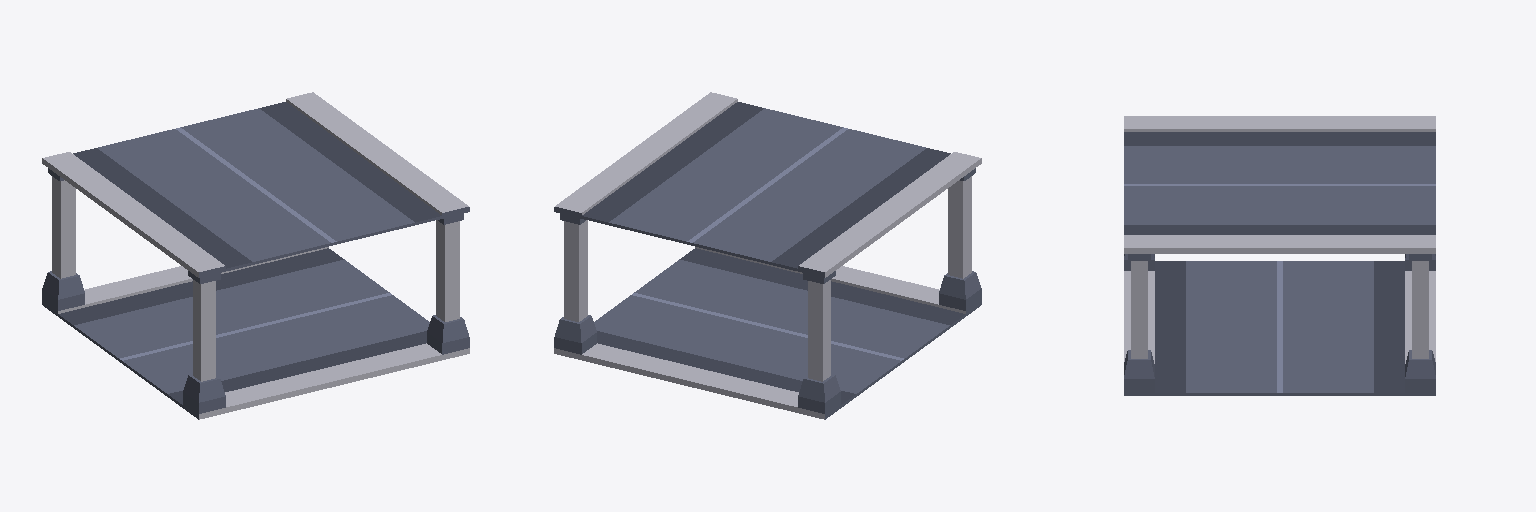
The model's file is road_bridge.obj.
3 renders of one model, left to right at view 1: azimuth 30°, elevation 25°; view 2: azimuth 150°, elevation 25°; view 3: azimuth 270°, elevation 25°, orthographic.
Visible parts, largest first — view 1: road_bridge; view 2: road_bridge; view 3: road_bridge.
Part boxes in pixels (x1,y1,x2,y2): road_bridge: (42,92,469,419); road_bridge: (554,92,981,419); road_bridge: (1124,116,1435,395).
Bounding box in the file's own units: 1 × 0.52 × 1.